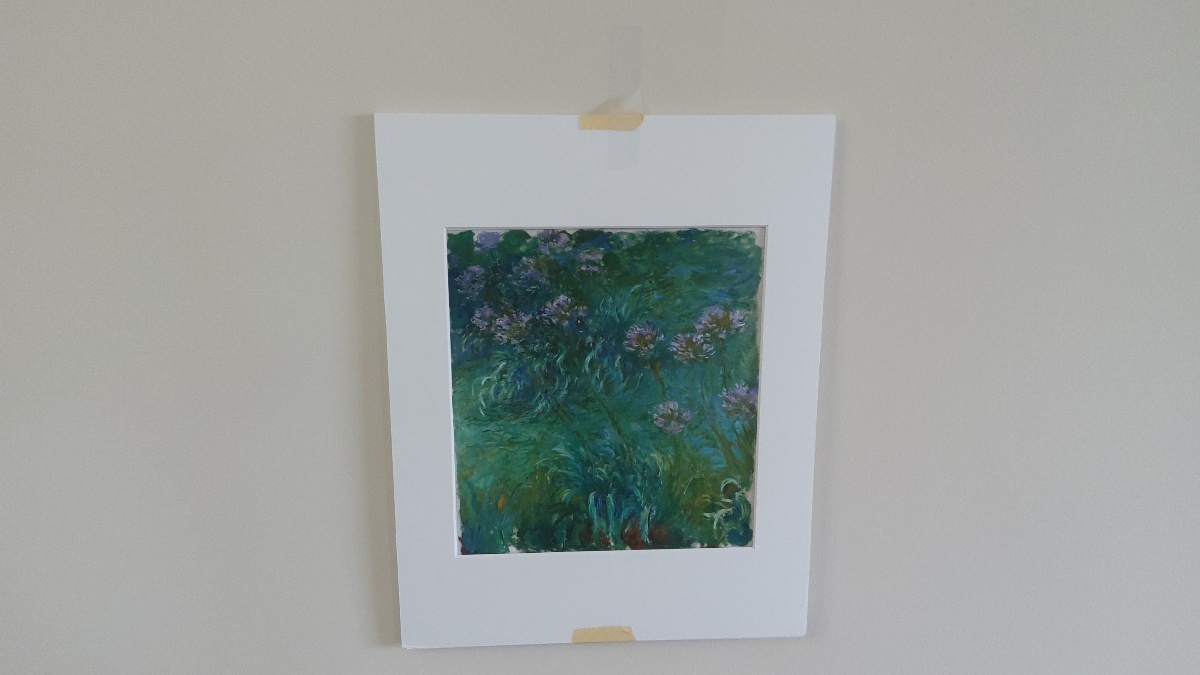painting: (436, 216, 775, 562)
